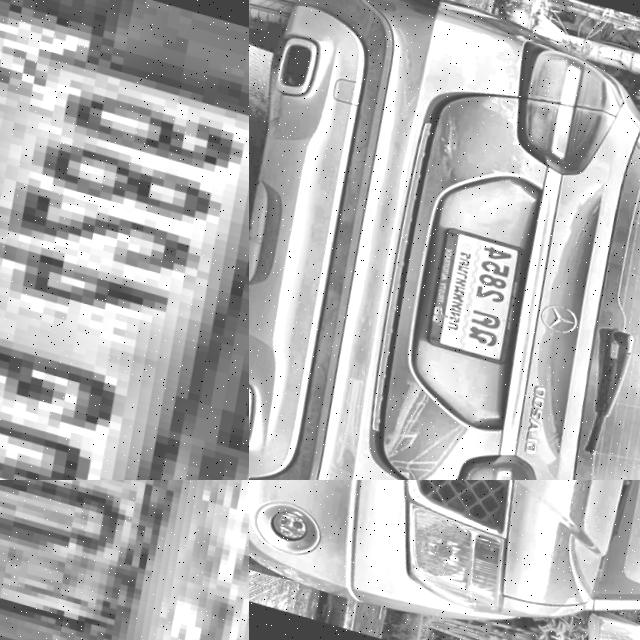license-plate: (0, 0, 249, 480), (0, 480, 249, 640), (409, 216, 532, 364)
